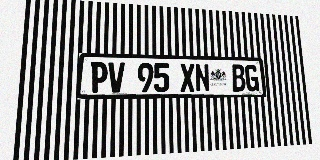5: (154, 63, 170, 92)
9: (138, 63, 154, 92)
B: (231, 64, 246, 92)
G: (245, 65, 259, 91)
N: (195, 64, 210, 92)
P: (90, 62, 108, 93)
V: (108, 62, 125, 93)
X: (180, 63, 195, 92)
